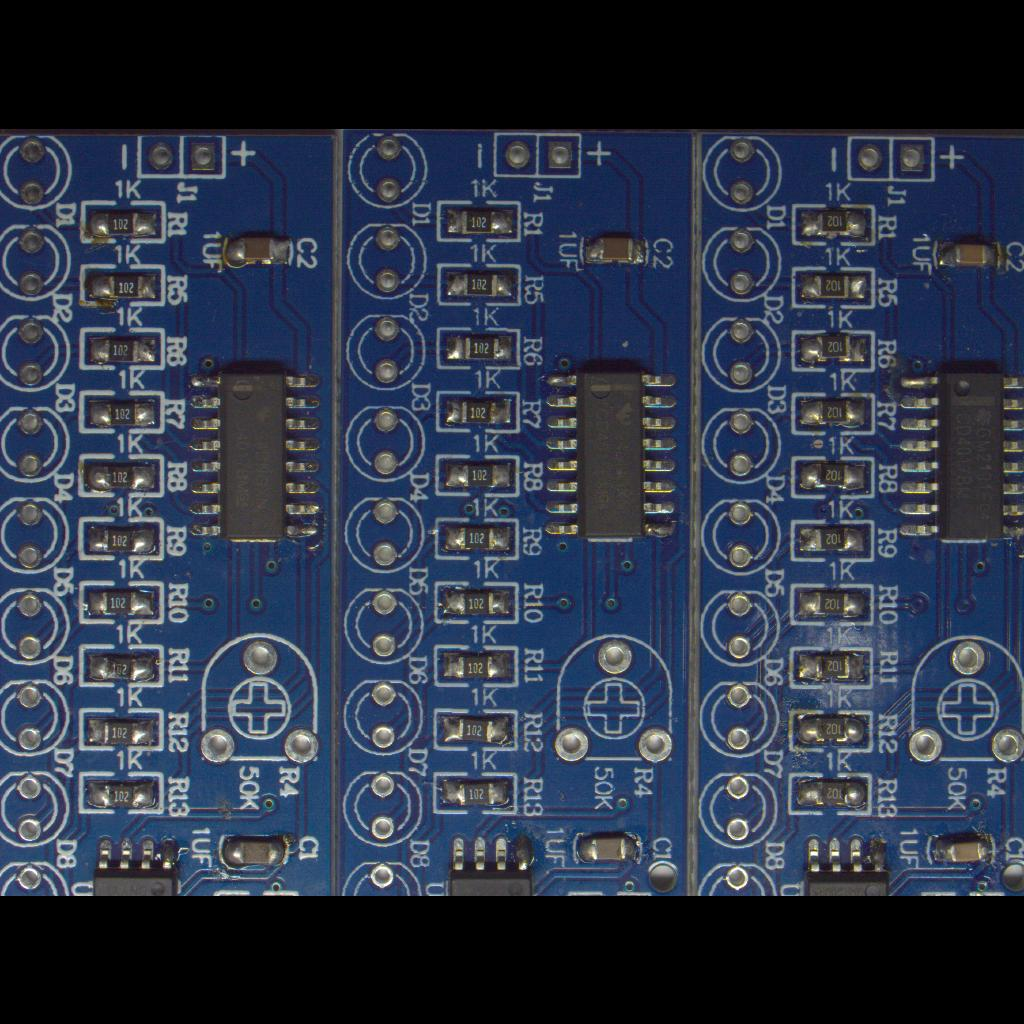OK: (536, 358, 690, 552), (182, 358, 328, 552), (890, 362, 1024, 552), (786, 706, 876, 758), (432, 195, 524, 245), (77, 386, 169, 436), (76, 452, 170, 500), (788, 200, 878, 250), (789, 389, 879, 439), (76, 639, 166, 689), (431, 706, 521, 756), (77, 198, 169, 246), (77, 261, 169, 309), (76, 324, 168, 372), (432, 324, 524, 372), (433, 260, 525, 308), (75, 578, 167, 626), (76, 769, 168, 817), (430, 642, 522, 690), (432, 513, 520, 563), (788, 264, 878, 312), (788, 454, 878, 502), (76, 514, 166, 562), (433, 452, 523, 500), (789, 328, 877, 376), (434, 388, 522, 436), (788, 582, 876, 630), (786, 644, 876, 690), (430, 770, 520, 816), (432, 580, 520, 626), (786, 771, 874, 817), (788, 517, 876, 563), (572, 227, 656, 273), (214, 826, 294, 874), (216, 228, 298, 274), (568, 826, 646, 872), (922, 826, 1000, 872), (934, 237, 1002, 269), (85, 716, 157, 746)
